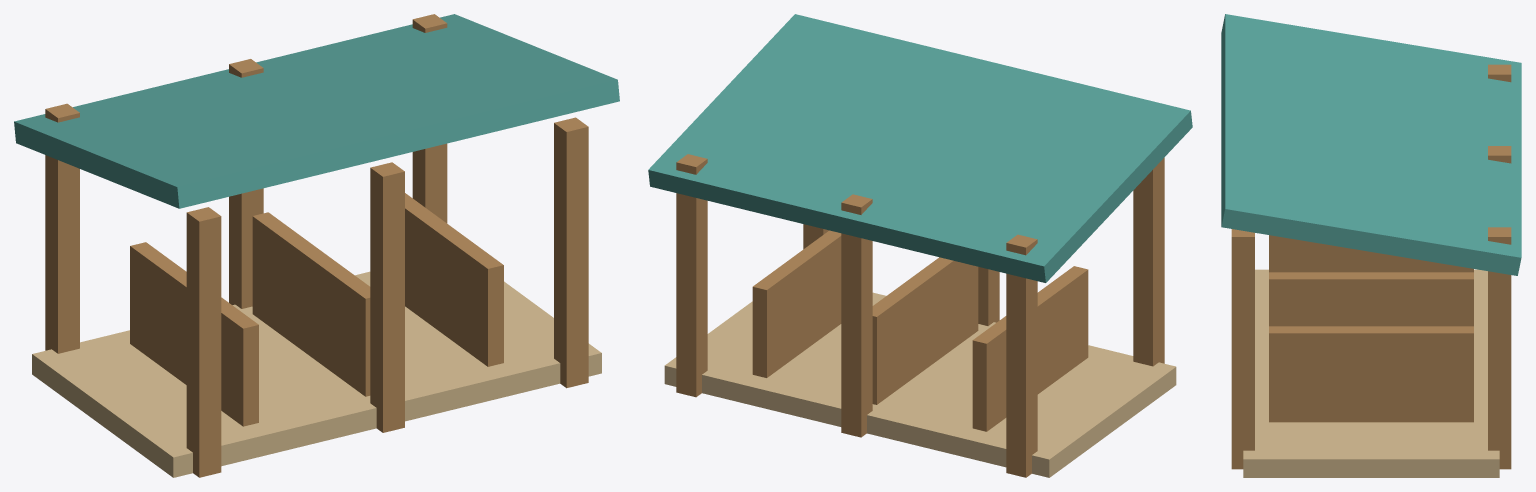
The model's file is CompostShed.glb.
3 views of the same model, side by side, from view 1: azimuth 30°, elevation 25°; view 2: azimuth 150°, elevation 25°; view 3: azimuth 270°, elevation 25° (orthographic). The views are drawn at different scales.
Parts seen in each view (by area): view 1: hand-pump-static-compost-shed-timber, hand-pump-static-compost-shed-roof, hand-pump-static-compost-shed-stone; view 2: hand-pump-static-compost-shed-roof, hand-pump-static-compost-shed-timber, hand-pump-static-compost-shed-stone; view 3: hand-pump-static-compost-shed-roof, hand-pump-static-compost-shed-timber, hand-pump-static-compost-shed-stone.
Part boxes in pixels (bbox=[...]): hand-pump-static-compost-shed-timber: bbox=[45, 14, 588, 477]; hand-pump-static-compost-shed-roof: bbox=[14, 14, 619, 208]; hand-pump-static-compost-shed-stone: bbox=[32, 271, 601, 477]; hand-pump-static-compost-shed-roof: bbox=[648, 14, 1192, 282]; hand-pump-static-compost-shed-timber: bbox=[676, 154, 1164, 477]; hand-pump-static-compost-shed-stone: bbox=[664, 292, 1176, 477]; hand-pump-static-compost-shed-roof: bbox=[1221, 14, 1521, 275]; hand-pump-static-compost-shed-timber: bbox=[1231, 64, 1511, 469]; hand-pump-static-compost-shed-stone: bbox=[1243, 269, 1499, 477].
Bounding box in the file's own units: 3.6 × 2.34 × 2.34.
